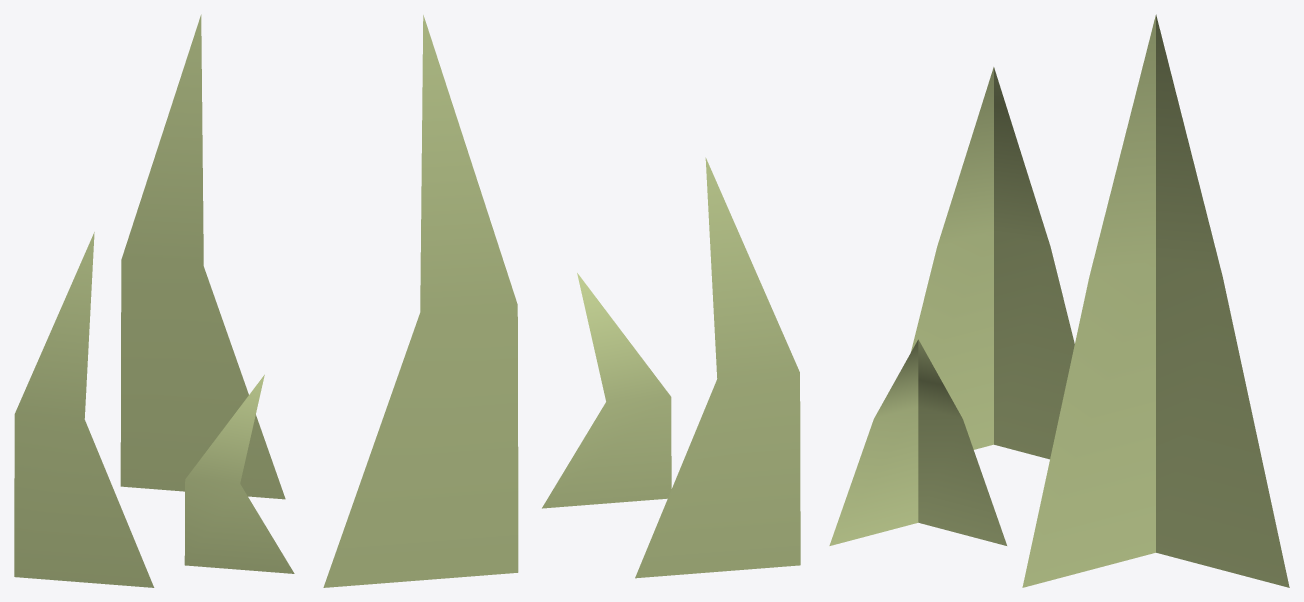
File: Grass2.fbx
3 renders of one model, left to right at view 1: azimuth 30°, elevation 25°; view 2: azimuth 150°, elevation 25°; view 3: azimuth 270°, elevation 25°, orthographic. The views are drawn at different scales.
Visible parts, largest first — view 1: Grass2; view 2: Grass2; view 3: Grass2.
Boxes of the visible parts, bbox=[...] form: Grass2: bbox=[14, 14, 294, 587]; Grass2: bbox=[323, 15, 800, 587]; Grass2: bbox=[829, 14, 1289, 587].
Size of the model in its own units: 2.12 by 3.24 by 2.43.
